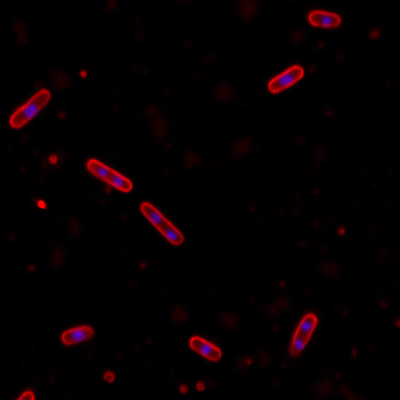CAM: (139, 200, 184, 246), (9, 88, 52, 130), (86, 156, 132, 193), (266, 64, 306, 95), (187, 334, 223, 362), (306, 9, 343, 29)
Oblique: (286, 313, 318, 358), (61, 324, 95, 345)
Vesicle: (102, 368, 117, 384), (47, 152, 61, 166), (195, 379, 206, 393), (177, 384, 189, 396), (37, 198, 48, 211), (78, 68, 89, 80), (369, 28, 380, 38), (338, 226, 349, 236), (243, 357, 252, 368)
